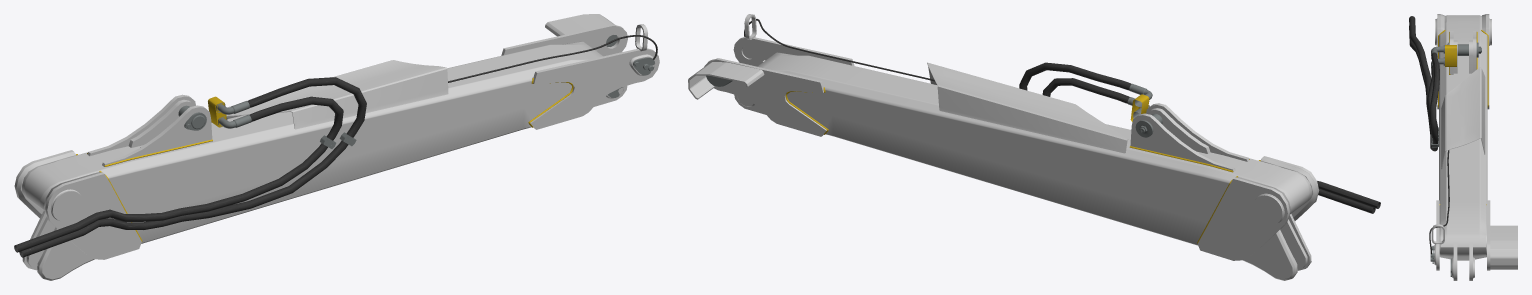
The model's file is BOOM.dae.
The picture shows the model from 3 angles, left to right: view 1: azimuth 30°, elevation 25°; view 2: azimuth 150°, elevation 25°; view 3: azimuth 270°, elevation 25°; orthographic projection. The views are drawn at different scales.
Visible parts, largest first — view 1: Mesh_050, Mesh_046, Mesh_049, Mesh_034, Mesh_048; view 2: Mesh_050, Mesh_049, Mesh_046, Mesh_034, Mesh_048; view 3: Mesh_050, Mesh_049, Mesh_046, Mesh_034, Mesh_036, Mesh_048, Mesh_009, Mesh_031.
Boxes of the visible parts, box(x1,y1,x2,y2) form: Mesh_050: box(14, 14, 659, 280); Mesh_046: box(14, 77, 366, 257); Mesh_049: box(211, 60, 448, 129); Mesh_034: box(76, 78, 573, 241); Mesh_048: box(448, 35, 657, 82); Mesh_050: box(688, 14, 1319, 280); Mesh_049: box(927, 62, 1128, 153); Mesh_046: box(1019, 62, 1380, 213); Mesh_034: box(785, 87, 1260, 243); Mesh_048: box(744, 19, 934, 81); Mesh_050: box(1431, 14, 1517, 280); Mesh_049: box(1441, 67, 1485, 168); Mesh_046: box(1409, 16, 1439, 151); Mesh_034: box(1438, 30, 1488, 204); Mesh_036: box(1445, 45, 1456, 66); Mesh_048: box(1429, 150, 1449, 254); Mesh_009: box(1457, 42, 1481, 57); Mesh_031: box(1431, 45, 1444, 55).
Size of the model in its own units: 3.25 by 0.585 by 0.6938.
